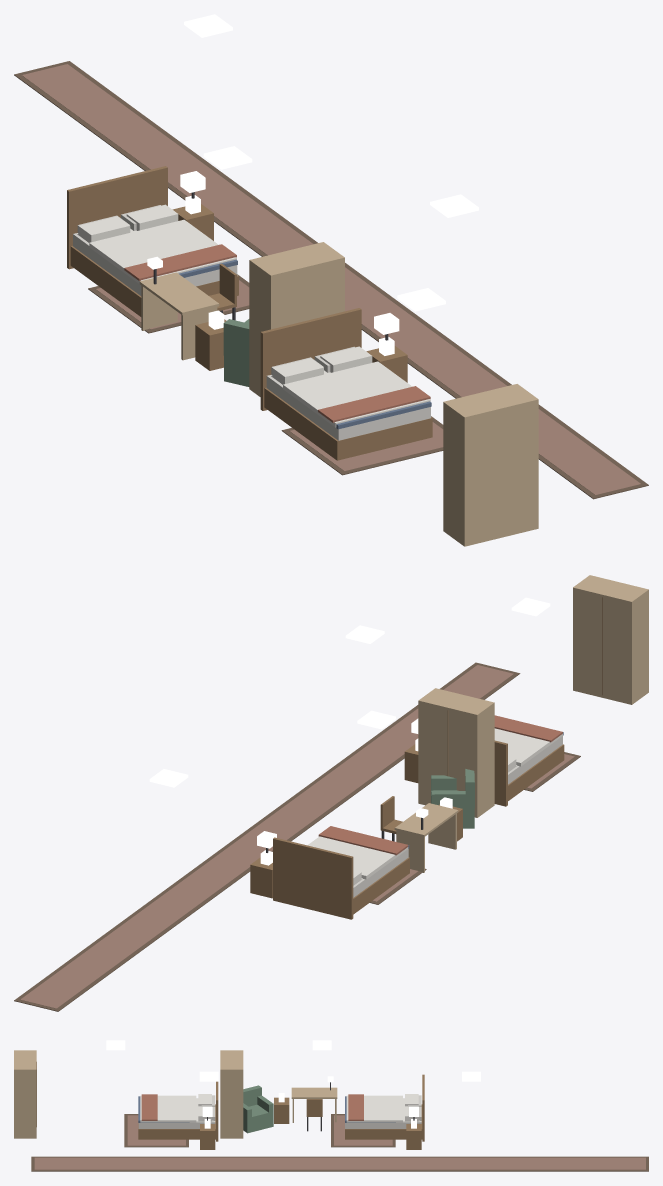
Rendered from fine-s1.glb.
3 renders of one model, top to bottom at view 1: azimuth 30°, elevation 25°; view 2: azimuth 150°, elevation 25°; view 3: azimuth 270°, elevation 25°, orthographic. The views are drawn at different scales.
Parts seen in each view (by area): view 1: soft-s1, dresser.001, bed-frame.001, dresser.000, bed-frame.000, writing-desk.000, lounge-chair.000, side-table.000, nightstand.001, nightstand.000, cafe-chair.000; view 2: soft-s1, dresser.001, dresser.000, bed-frame.000, writing-desk.000, bed-frame.001, lounge-chair.000, nightstand.000; view 3: soft-s1, dresser.000, dresser.001, bed-frame.001, bed-frame.000, lounge-chair.000, writing-desk.000, side-table.000, nightstand.001, nightstand.000, cafe-chair.000, ceiling-lamp.003 (+2 smaller).
Boxes of the visible parts, box(x1,y1,x2,y2) form: soft-s1: box(14, 61, 648, 499); dresser.001: box(443, 384, 538, 546); bed-frame.001: box(260, 308, 432, 460); dresser.000: box(249, 242, 344, 396); bed-frame.000: box(67, 166, 238, 316); writing-desk.000: box(139, 256, 219, 360); lounge-chair.000: box(223, 319, 249, 386); side-table.000: box(195, 310, 226, 370); nightstand.001: box(366, 337, 407, 382); nightstand.000: box(172, 195, 213, 240); cafe-chair.000: box(209, 263, 236, 320); soft-s1: box(14, 662, 580, 1011); dresser.001: box(573, 575, 648, 704); dresser.000: box(418, 688, 494, 817); bed-frame.000: box(273, 837, 409, 919); writing-desk.000: box(394, 803, 458, 872); bed-frame.001: box(494, 732, 564, 806); lounge-chair.000: box(431, 769, 474, 828); nightstand.000: box(250, 850, 272, 898); soft-s1: box(31, 1094, 648, 1171); dresser.000: box(220, 1050, 243, 1138); dresser.001: box(14, 1050, 36, 1138); bed-frame.001: box(138, 1081, 218, 1141); bed-frame.000: box(345, 1074, 424, 1141); lounge-chair.000: box(243, 1085, 273, 1133); writing-desk.000: box(291, 1076, 337, 1122); side-table.000: box(274, 1093, 289, 1123); nightstand.001: box(200, 1119, 215, 1149); nightstand.000: box(406, 1119, 421, 1149); cafe-chair.000: box(306, 1099, 322, 1131); ceiling-lamp.003: box(199, 1071, 218, 1081).
Size of the model in its own units: 3.6 by 2.57 by 16.7.
